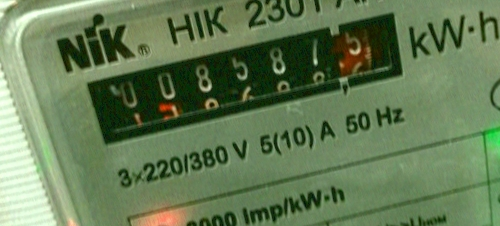0: (115, 75, 143, 109), (153, 66, 180, 101)
5: (228, 50, 252, 82), (341, 23, 364, 55)
6: (348, 58, 366, 76)
7: (303, 34, 326, 69)
8: (192, 60, 217, 93), (265, 42, 289, 76)
screen: (76, 10, 428, 146)
